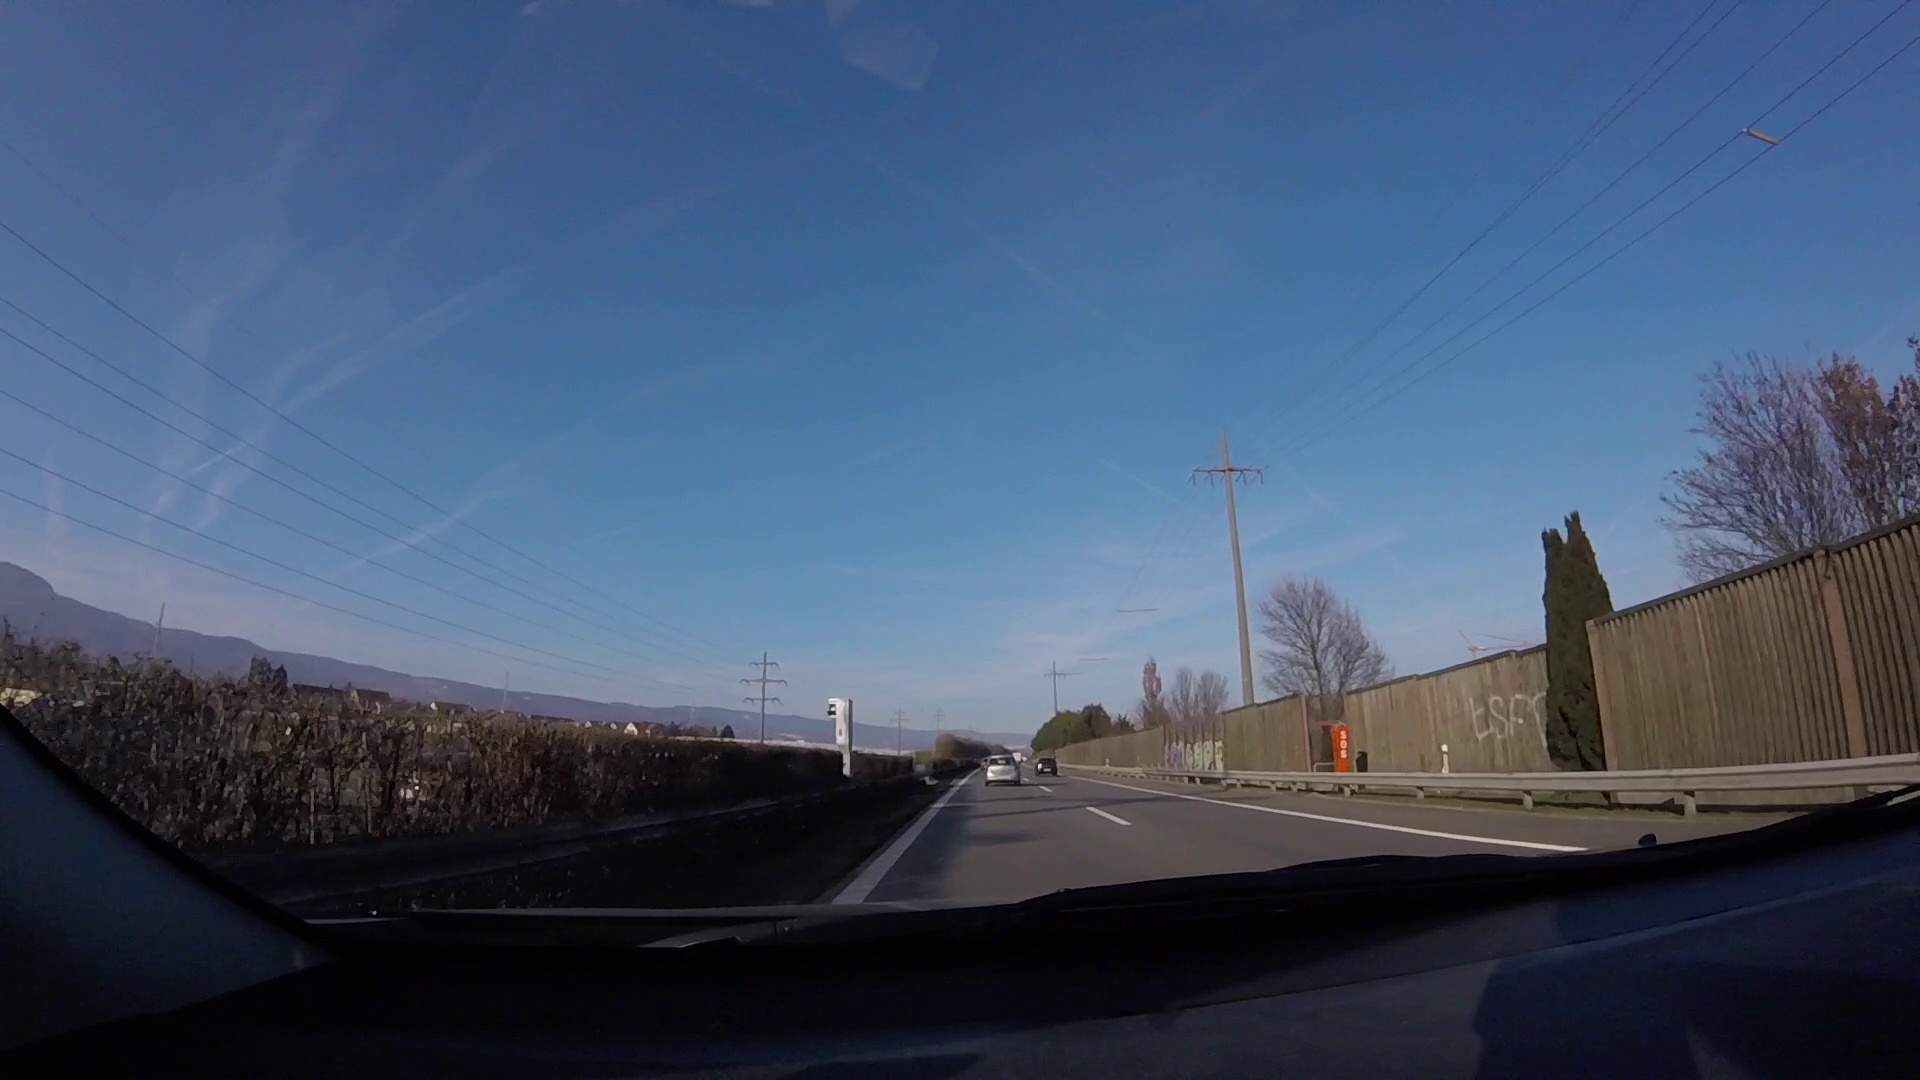radar: (825, 695, 858, 781)
